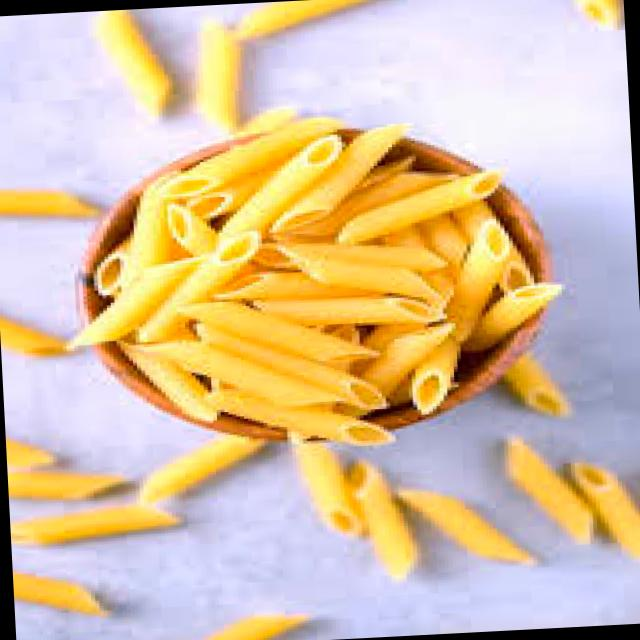Pasta: (96, 138, 518, 424)
